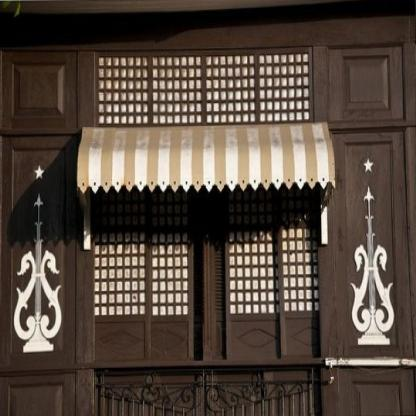Building Outline: (0, 0, 416, 416)
Facade: (0, 0, 416, 415)
Floor: (0, 0, 416, 416)
Roof: (77, 121, 336, 195)
Window: (93, 175, 321, 361), (98, 52, 309, 127)
